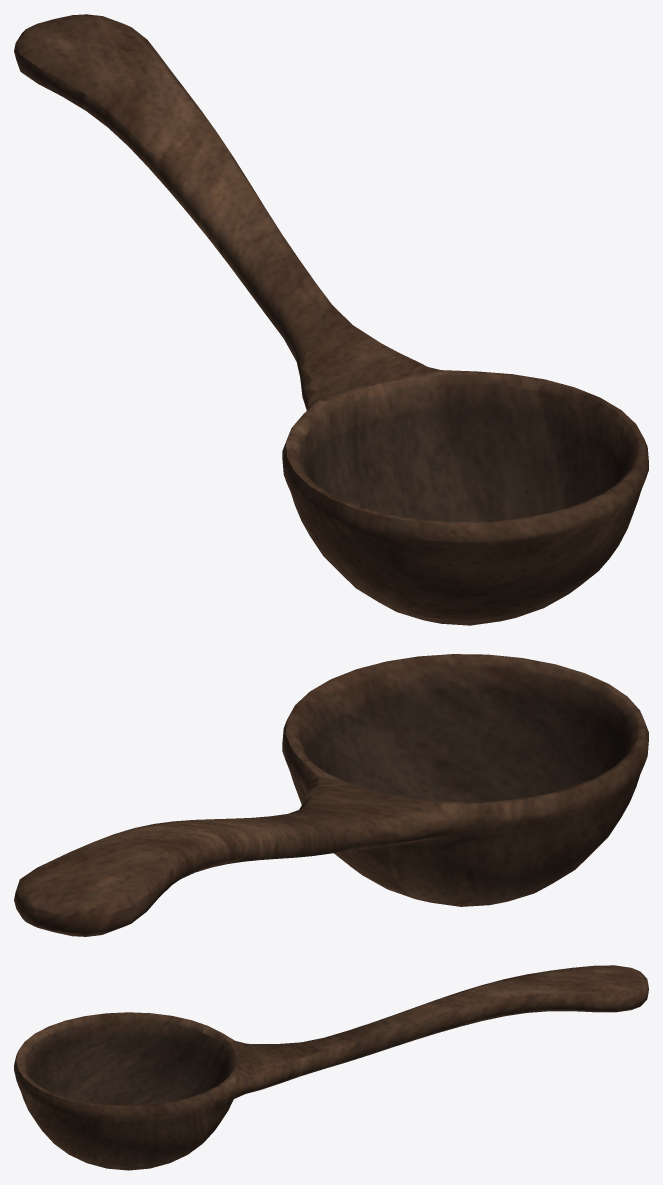
File: ladle.glb
The picture shows the model from 3 angles, top to bottom: view 1: azimuth 30°, elevation 25°; view 2: azimuth 150°, elevation 25°; view 3: azimuth 270°, elevation 25°; orthographic projection. The views are drawn at different scales.
Visible parts, largest first — view 1: mesh; view 2: mesh; view 3: mesh.
Boxes of the visible parts, x1=… form: mesh: x1=14, y1=14, x2=648, y2=625; mesh: x1=14, y1=654, x2=648, y2=936; mesh: x1=14, y1=965, x2=648, y2=1170.
Size of the model in its own units: 0.2826 by 0.248 by 0.7839.
1 material, 1 textured.
